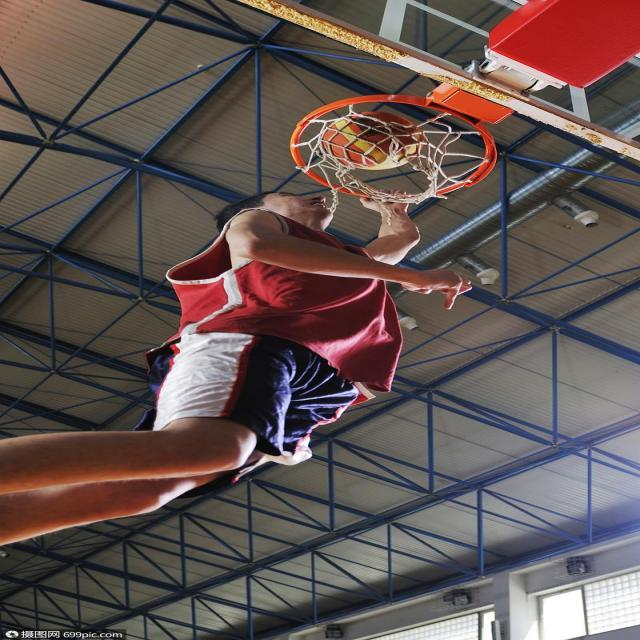rim: (318, 110, 432, 170)
